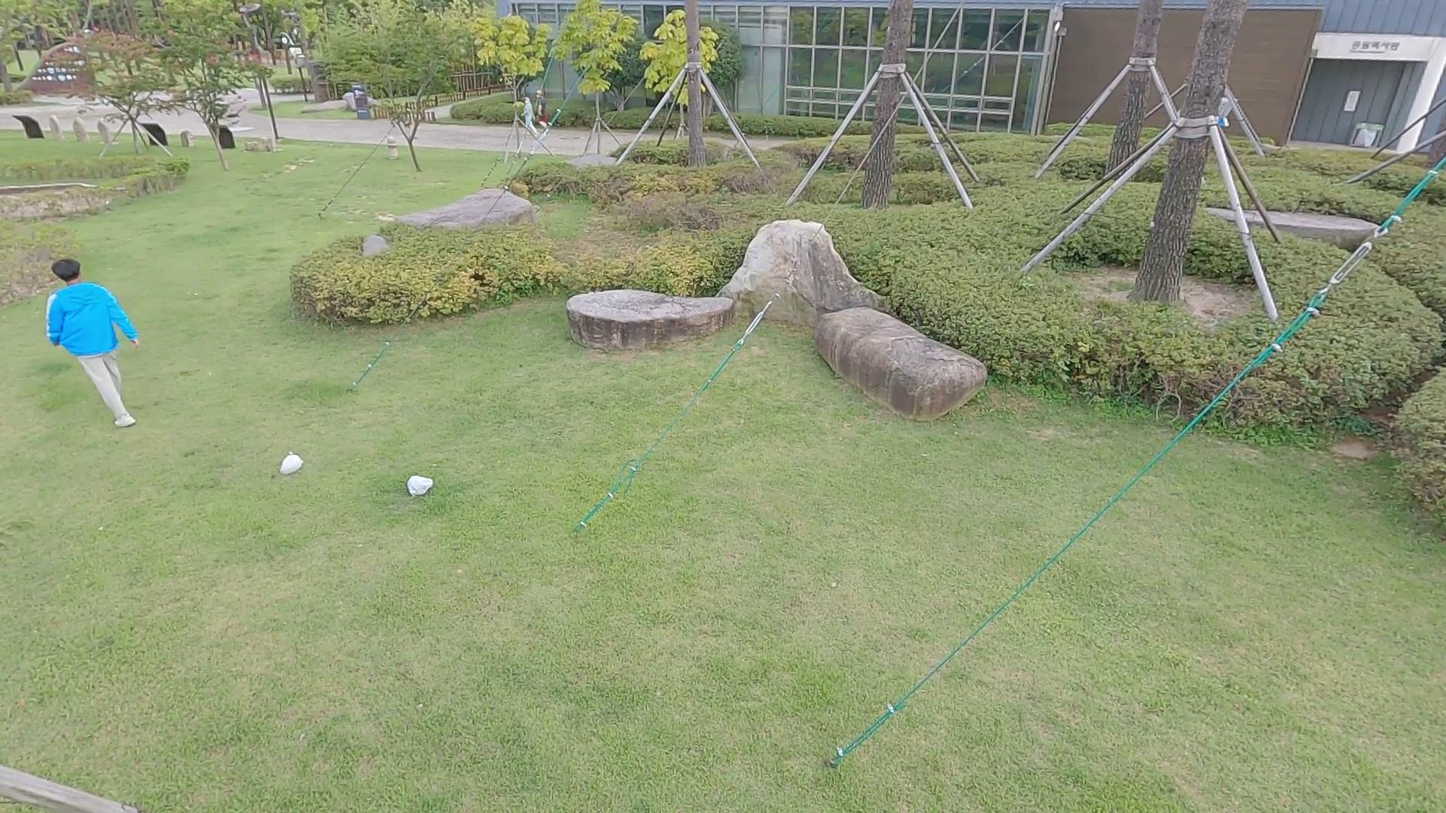person: (41, 244, 147, 434)
trash: (271, 446, 305, 478), (404, 473, 439, 503)
